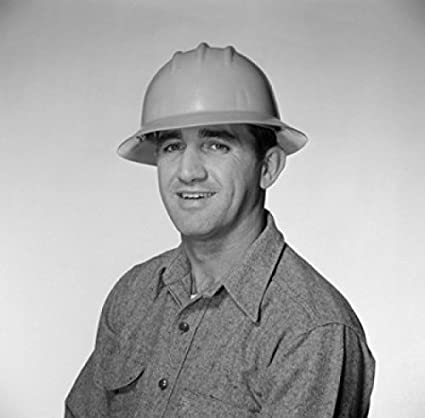Person_wearing_helmet: (118, 35, 315, 177)
